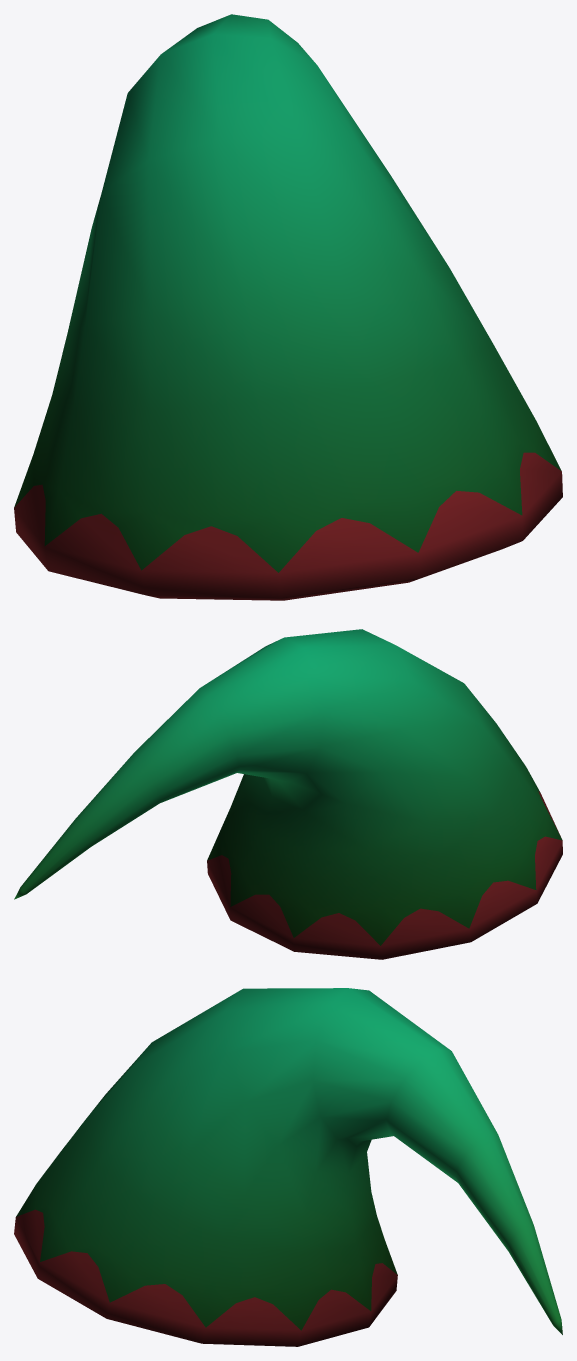
File: Elf_Cap.fbx
The picture shows the model from 3 angles, top to bottom: view 1: azimuth 30°, elevation 25°; view 2: azimuth 150°, elevation 25°; view 3: azimuth 270°, elevation 25°; orthographic projection. The views are drawn at different scales.
Visible parts, largest first — view 1: Elf_cap; view 2: Elf_cap; view 3: Elf_cap.
Part boxes in pixels (bbox=[...]): Elf_cap: bbox=[14, 14, 562, 600]; Elf_cap: bbox=[14, 629, 562, 959]; Elf_cap: bbox=[14, 988, 562, 1346].
Size of the model in its own units: 96.99 by 73.83 by 117.
